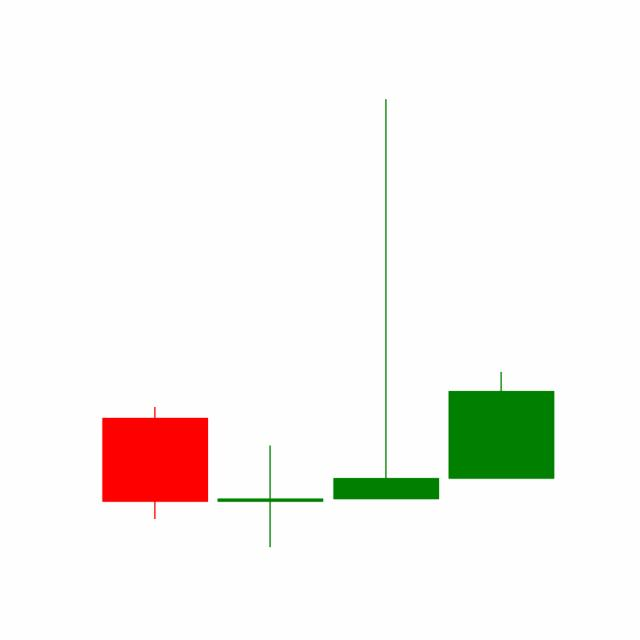Gravestone Doji: (328, 95, 444, 503)
